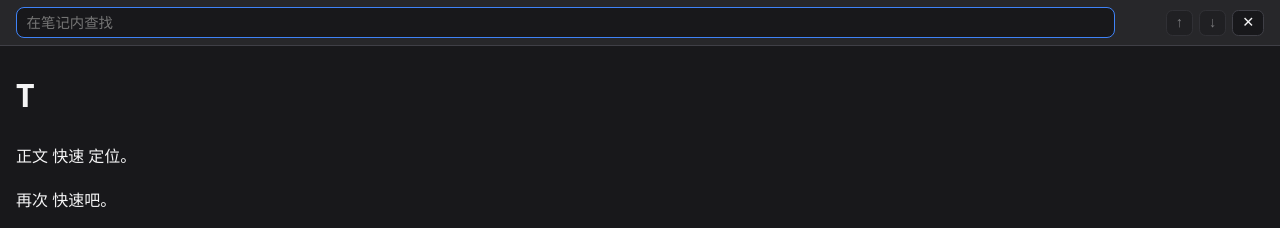
Test: ReaderView 单篇查找（09） › ↑/↓ 循环切换当前命中并更新计数；无命中时禁用按钮
Type "快速" into the search field with class "find-input".
click(565, 23); type("快速")  # box x1=16 y1=7 x2=1115 y2=38
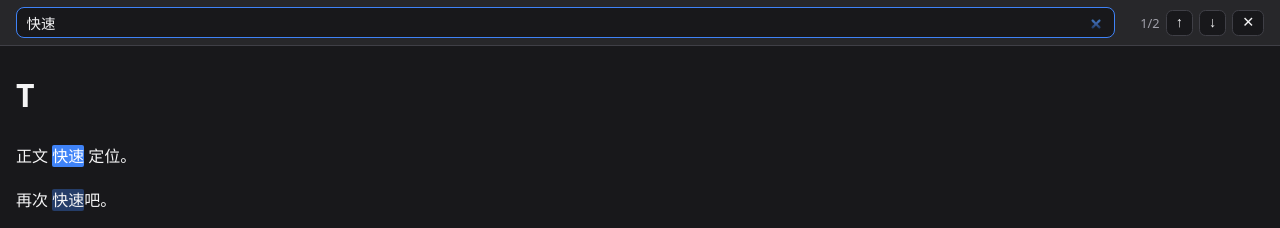
Click the button named "下一个".
click(1213, 23)  # box x1=1199 y1=10 x2=1226 y2=36
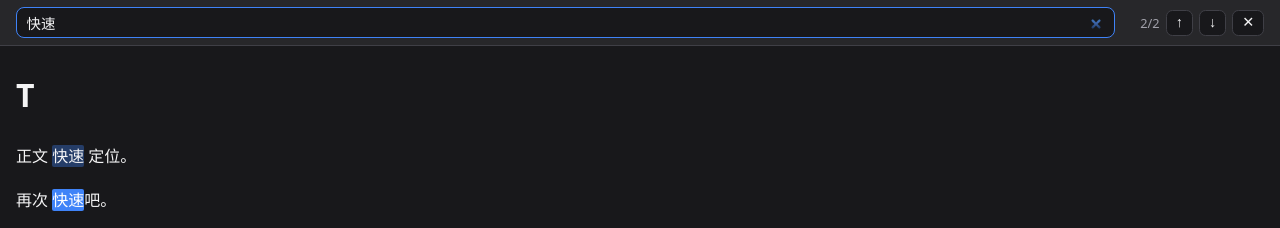
Click the button named "下一个".
click(1213, 23)  # box x1=1199 y1=10 x2=1226 y2=36
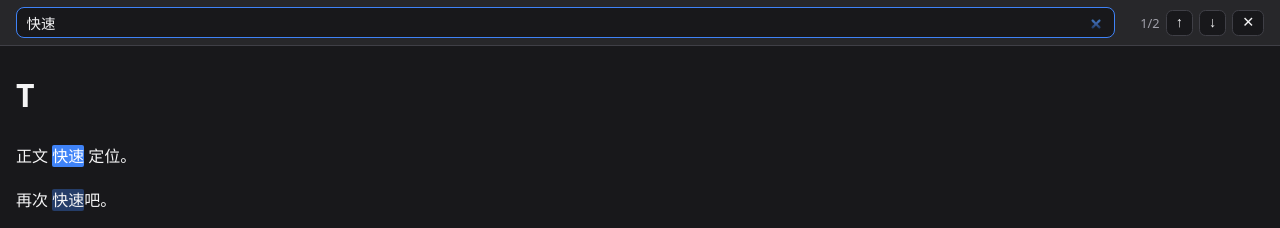
Click the button named "上一个".
click(1179, 23)  # box x1=1166 y1=10 x2=1193 y2=36
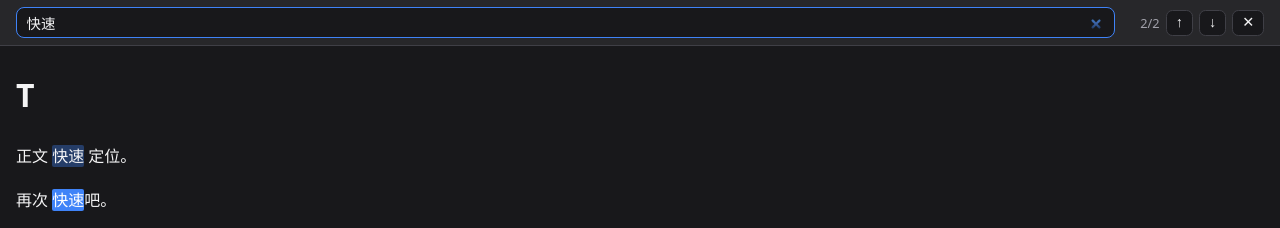
Replace the text in the search field with class "find-input" with "zzz" at (565, 23), box x1=16 y1=7 x2=1115 y2=38
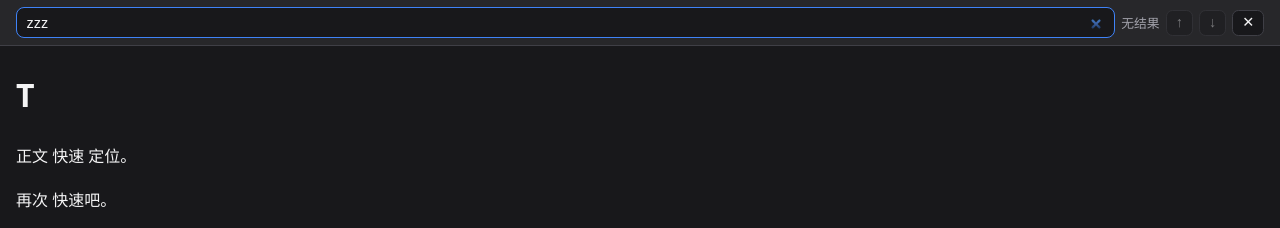
Expected: the button named "上一个" is disabled, x1=1166 y1=10 x2=1193 y2=36
Expected: the text with class "find-count" reads "无结果", x1=1121 y1=14 x2=1160 y2=32
Expected: the button named "下一个" is disabled, x1=1199 y1=10 x2=1226 y2=36
